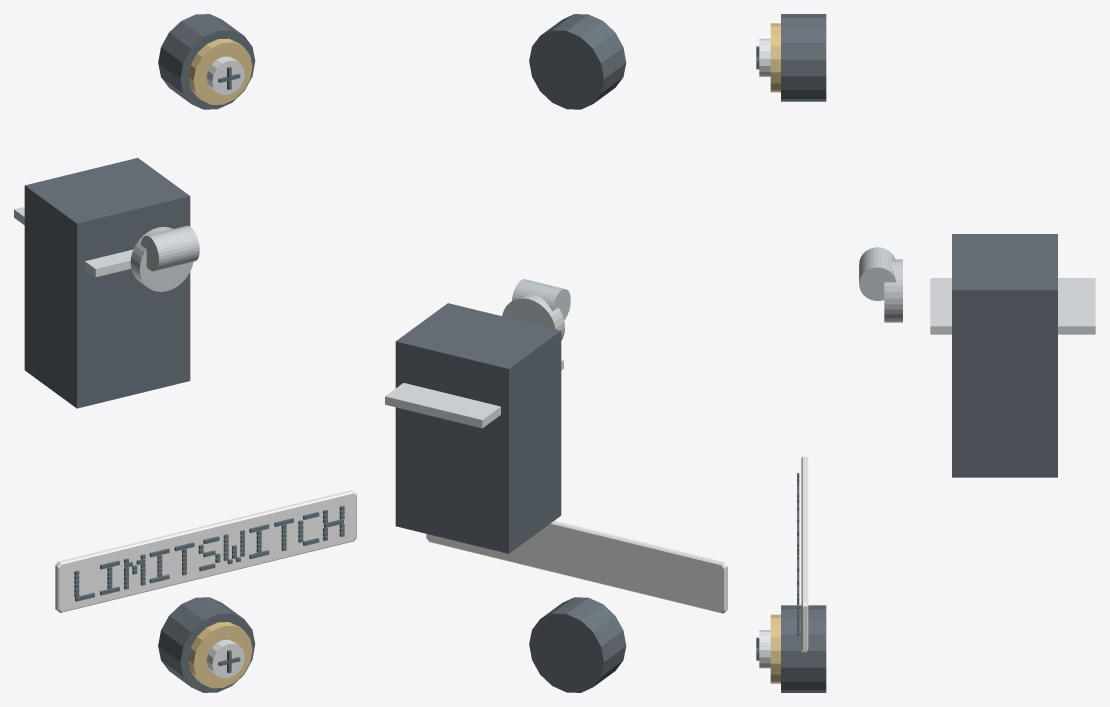
The model's file is limitSwitch.glb.
The picture shows the model from 3 angles, left to right: view 1: azimuth 30°, elevation 25°; view 2: azimuth 150°, elevation 25°; view 3: azimuth 270°, elevation 25°; orthographic projection.
Parts seen in each view (by area): view 1: limitSwitch-preview; view 2: limitSwitch-preview; view 3: limitSwitch-preview.
Part boxes in pixels (x1=…): limitSwitch-preview: x1=14, y1=14, x2=356, y2=692; limitSwitch-preview: x1=385, y1=14, x2=727, y2=692; limitSwitch-preview: x1=756, y1=14, x2=1095, y2=692.
Size of the model in its own units: 1.25 by 2.65 by 1.21.
